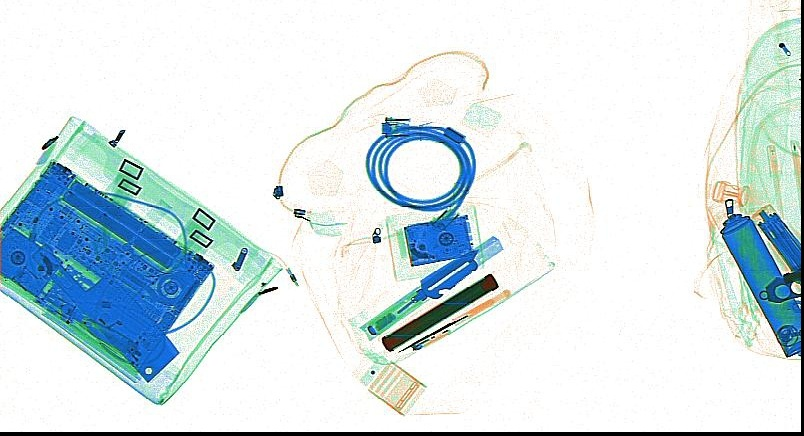knife: (29, 242, 179, 382), (359, 248, 479, 340), (397, 289, 509, 352), (81, 318, 137, 355), (757, 267, 799, 303)
pressure: (709, 192, 799, 357)
